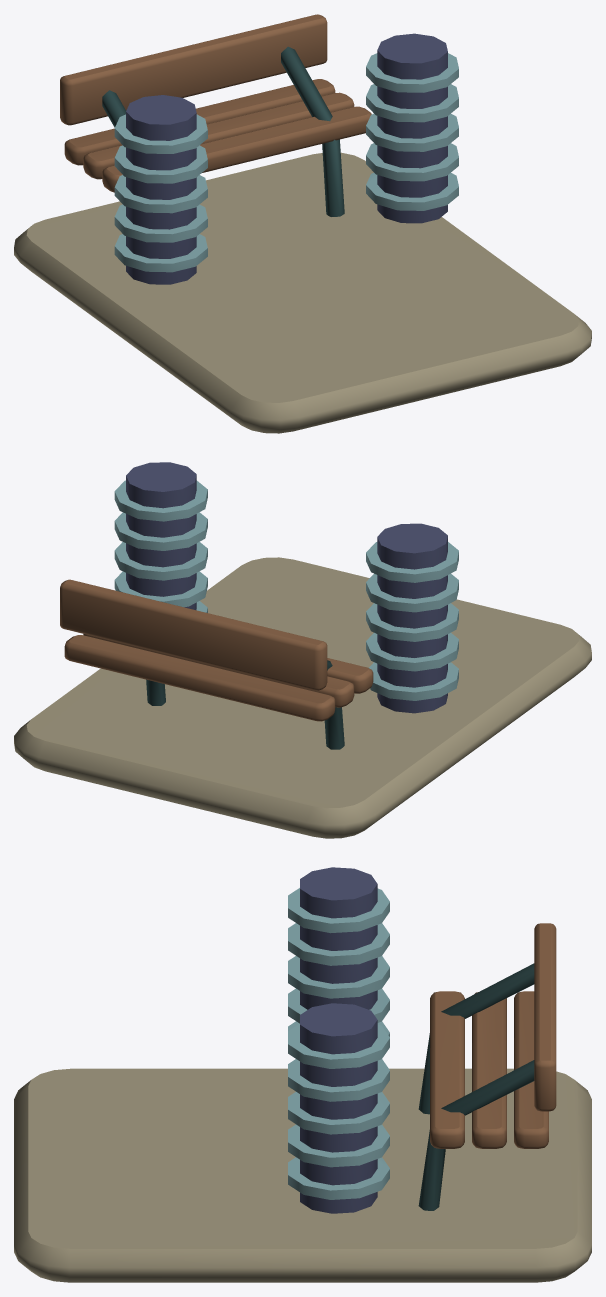
Rendered from japan_wash_1.glb.
3 renders of one model, top to bottom at view 1: azimuth 30°, elevation 25°; view 2: azimuth 150°, elevation 25°; view 3: azimuth 270°, elevation 25°, orthographic. The views are drawn at different scales.
Visible parts, largest first — view 1: JapanWash1; view 2: JapanWash1; view 3: JapanWash1.
Part boxes in pixels (x1,y1,x2,y2): JapanWash1: [14, 14, 591, 433]; JapanWash1: [14, 462, 591, 838]; JapanWash1: [14, 867, 591, 1282].
Bounding box in the file's own units: 1.95 × 1.14 × 2.48.
